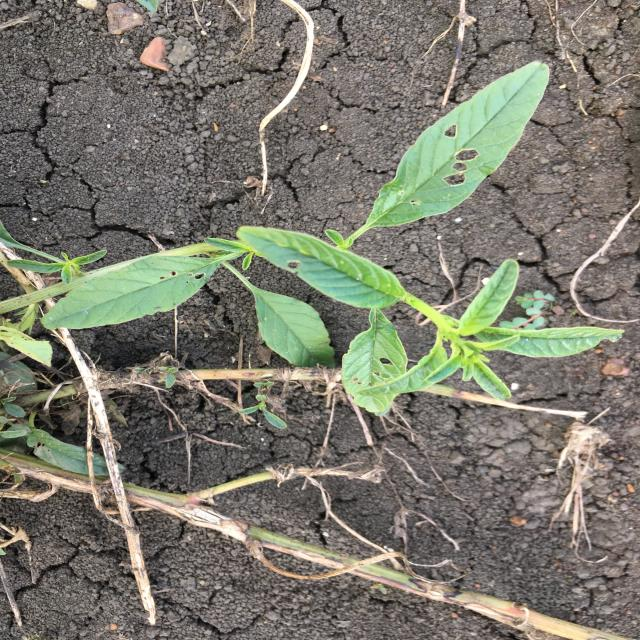SpottedSpurge: (495, 287, 558, 334)
Waterhemp: (37, 59, 629, 418), (2, 396, 127, 478)
